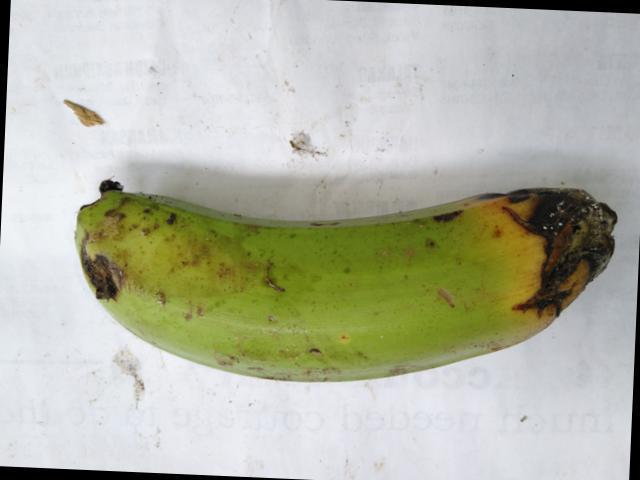unripe: (61, 165, 480, 413)
